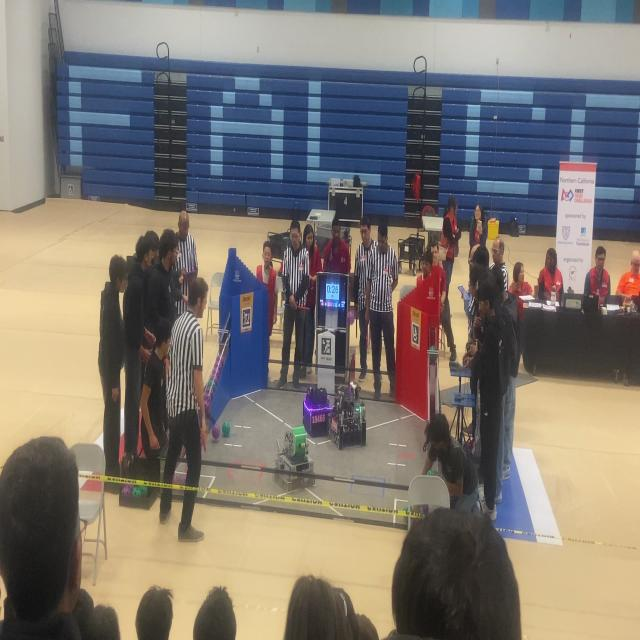artifact_green: (173, 473, 185, 485), (222, 422, 230, 437), (141, 486, 148, 497), (207, 379, 214, 387), (211, 381, 216, 392), (427, 470, 435, 475)
artifact_purple: (212, 422, 220, 442), (173, 473, 185, 485), (347, 310, 355, 326), (132, 486, 142, 498), (122, 485, 132, 496), (141, 486, 148, 497), (180, 474, 186, 485), (215, 355, 220, 365), (212, 381, 216, 392), (215, 377, 219, 385)
